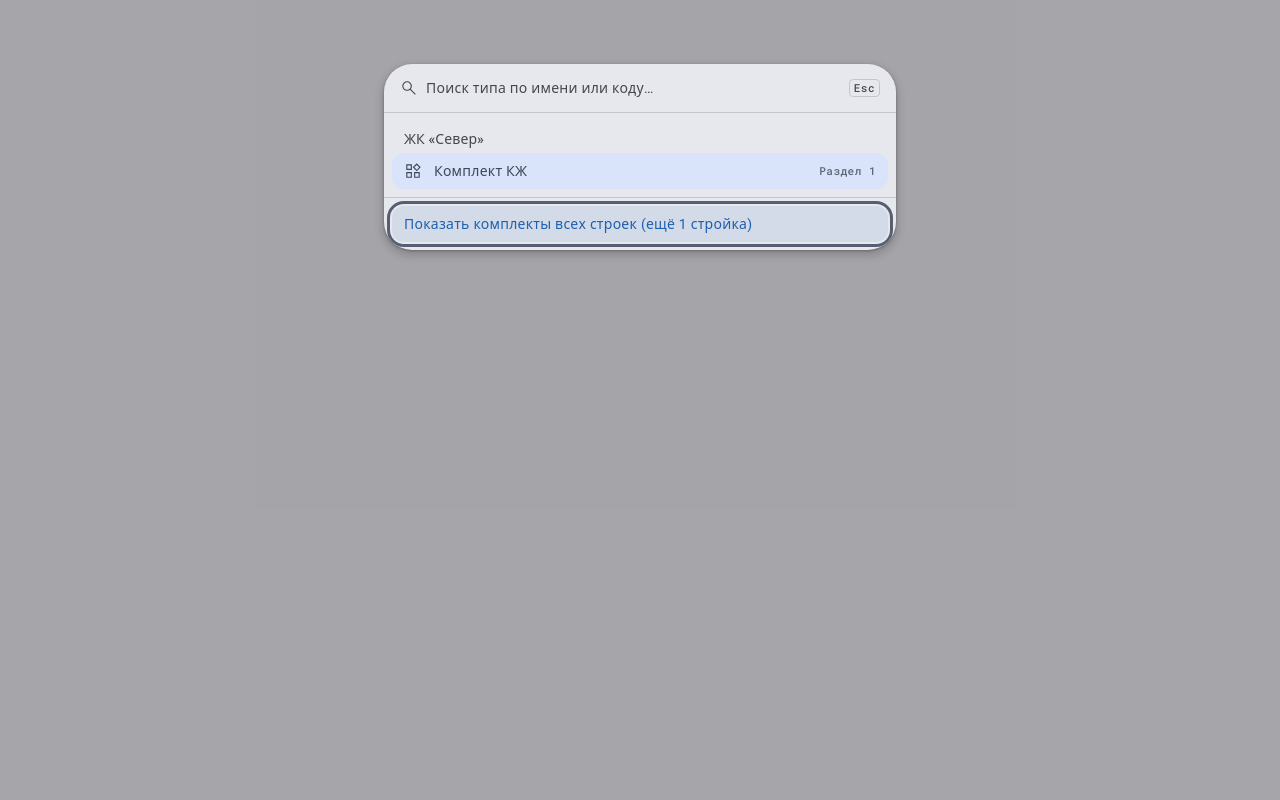
Test case: TypePicker: пункты в стороне (#1219) › выход раскрывает список и исчезает, а фокус возвращается в поиск
Click the button "Показать комплекты всех строек (ещё 1 стройка)" at (640, 224), box [392, 206, 888, 242]
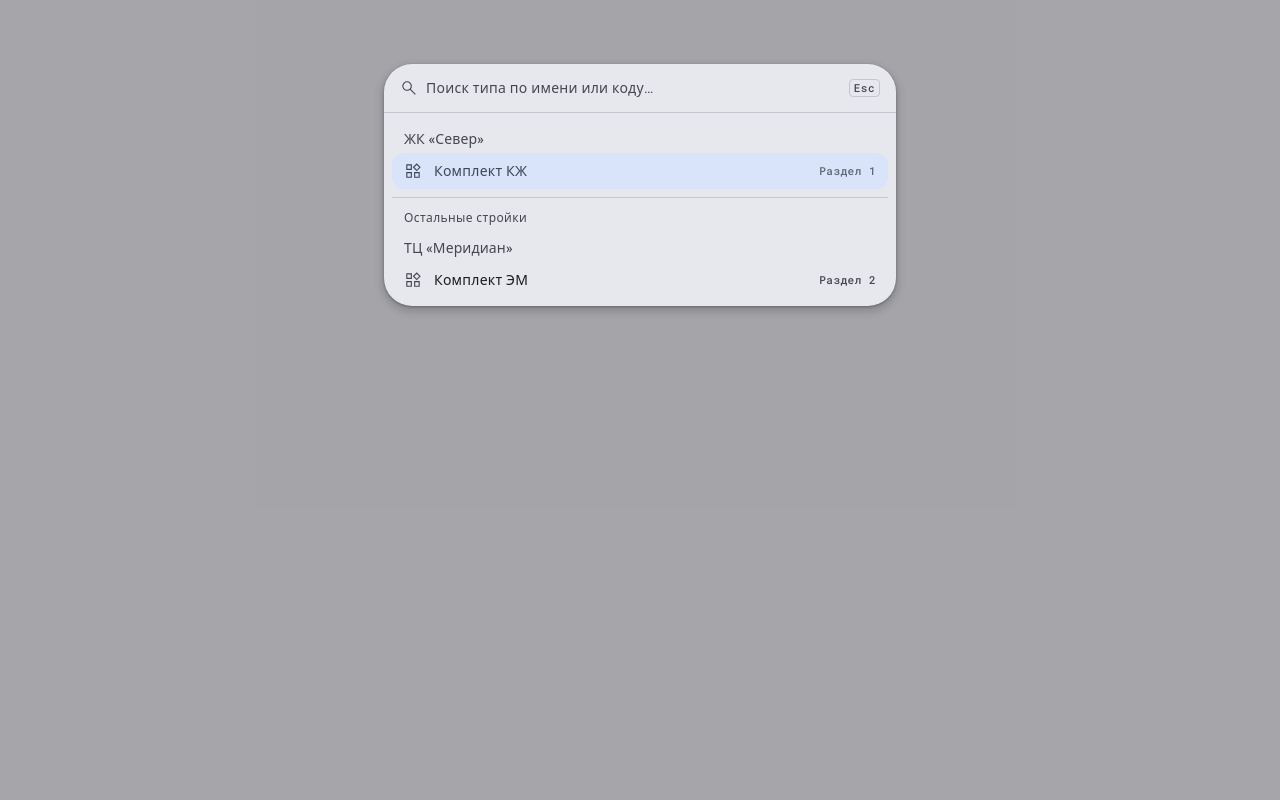
Expected: the text "Комплект ЭМ" is shown, [434, 272, 528, 288]
Expected: the button "Показать комплекты всех строек (ещё 1 стройка)" is gone
